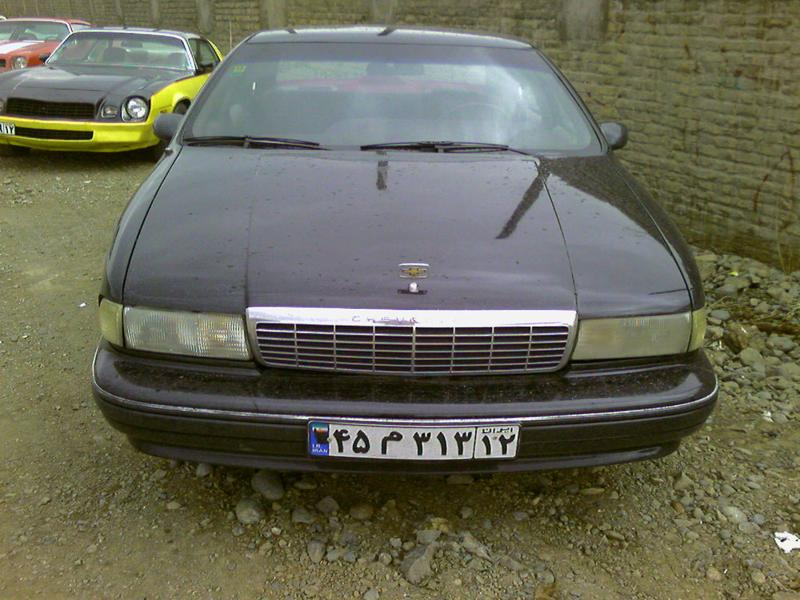Plate: (309, 416, 521, 458)
